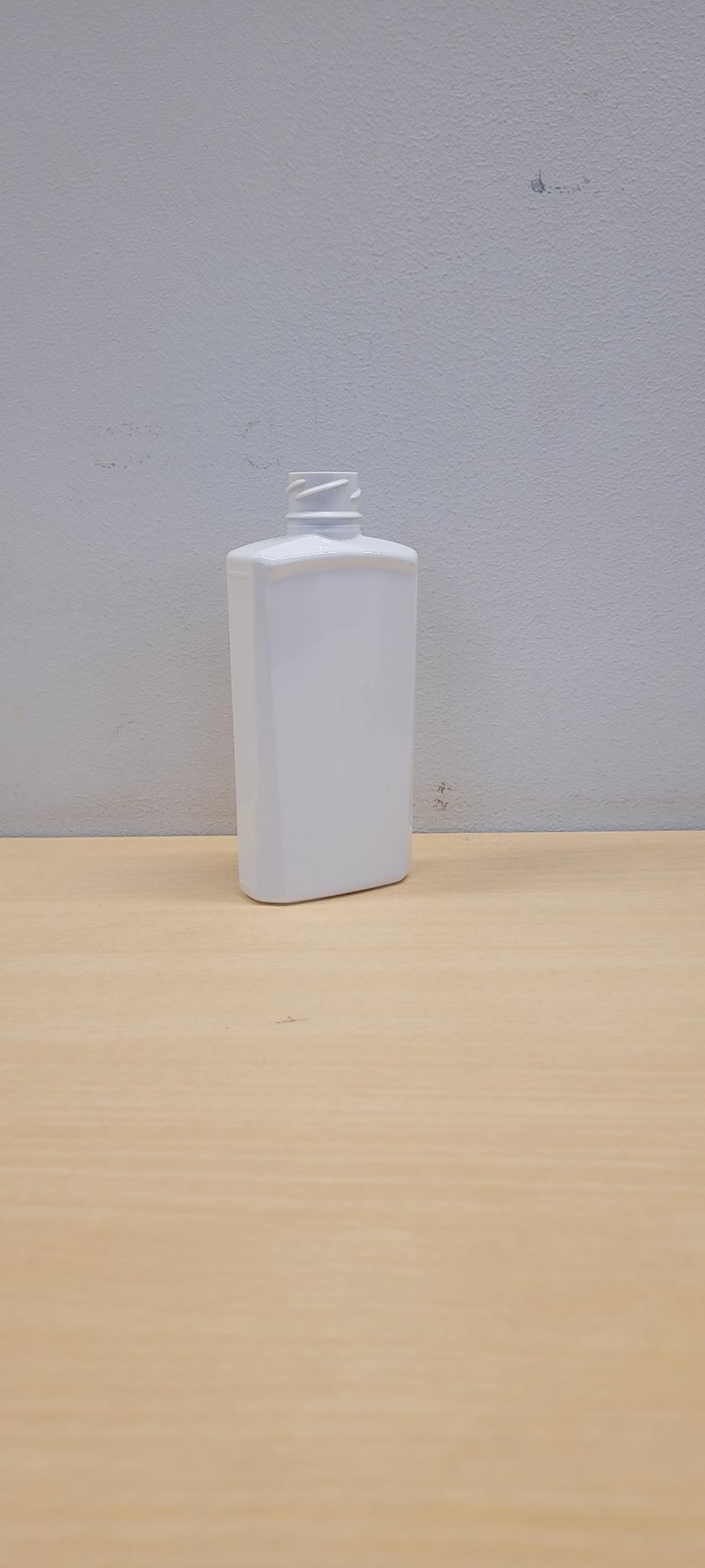bottle: (227, 471, 418, 904)
